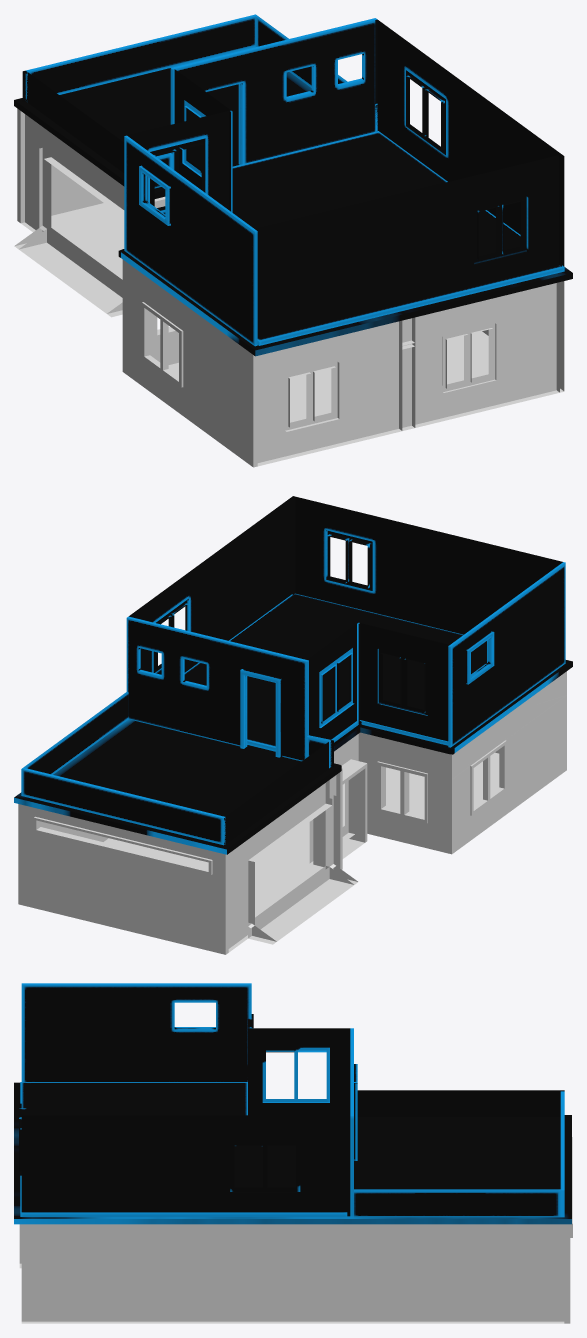
The model's file is sample.gltf.
The picture shows the model from 3 angles, top to bottom: view 1: azimuth 30°, elevation 25°; view 2: azimuth 150°, elevation 25°; view 3: azimuth 270°, elevation 25°; orthographic projection. The views are drawn at different scales.
Parts seen in each view (by area): view 1: Plane016, Plane011, Plane014, Plane002, Plane009, Plane003, Plane015, Plane012, Plane006, Plane013, Plane004, Plane (+4 smaller); view 2: Plane001, Plane016, Plane006, Plane011, Plane004, Plane014, Plane013, Plane009, Plane012, Plane003, Plane005, Plane008 (+2 smaller); view 3: Plane001, Plane012, Plane009, Plane006, Plane013, Plane014, Plane010, Plane, Plane011.
Boxes of the visible parts, left/top/right/bottom form: Plane016: left=255, top=155, right=561, bottom=338; Plane011: left=170, top=18, right=377, bottom=168; Plane014: left=232, top=131, right=564, bottom=345; Plane002: left=402, top=282, right=559, bottom=427; Plane009: left=124, top=135, right=257, bottom=346; Plane003: left=122, top=259, right=257, bottom=467; Plane015: left=257, top=320, right=402, bottom=462; Plane012: left=375, top=19, right=564, bottom=266; Plane006: left=14, top=68, right=572, bottom=356; Plane013: left=22, top=14, right=377, bottom=188; Plane004: left=14, top=111, right=165, bottom=317; Plane: left=25, top=203, right=563, bottom=466; Plane001: left=18, top=804, right=228, bottom=954; Plane016: left=292, top=496, right=562, bottom=634; Plane006: left=14, top=660, right=572, bottom=854; Plane011: left=126, top=616, right=308, bottom=761; Plane004: left=228, top=734, right=367, bottom=952; Plane014: left=184, top=593, right=486, bottom=751; Plane013: left=21, top=692, right=333, bottom=845; Plane009: left=448, top=562, right=565, bottom=747; Plane012: left=129, top=496, right=294, bottom=674; Plane003: left=448, top=671, right=566, bottom=854; Plane005: left=358, top=732, right=448, bottom=853; Plane008: left=358, top=623, right=449, bottom=741; Plane001: left=21, top=1137, right=572, bottom=1323; Plane012: left=21, top=1115, right=350, bottom=1216; Plane009: left=21, top=983, right=251, bottom=1081; Plane006: left=14, top=1082, right=571, bottom=1224; Plane013: left=354, top=1090, right=564, bottom=1217; Plane014: left=20, top=1082, right=347, bottom=1216; Plane010: left=248, top=1028, right=350, bottom=1115; Plane: left=21, top=1321, right=521, bottom=1323; Plane011: left=350, top=1028, right=357, bottom=1217.
Size of the model in its own units: 2.17 by 1.54 by 3.76.
16 materials, 9 textured.
